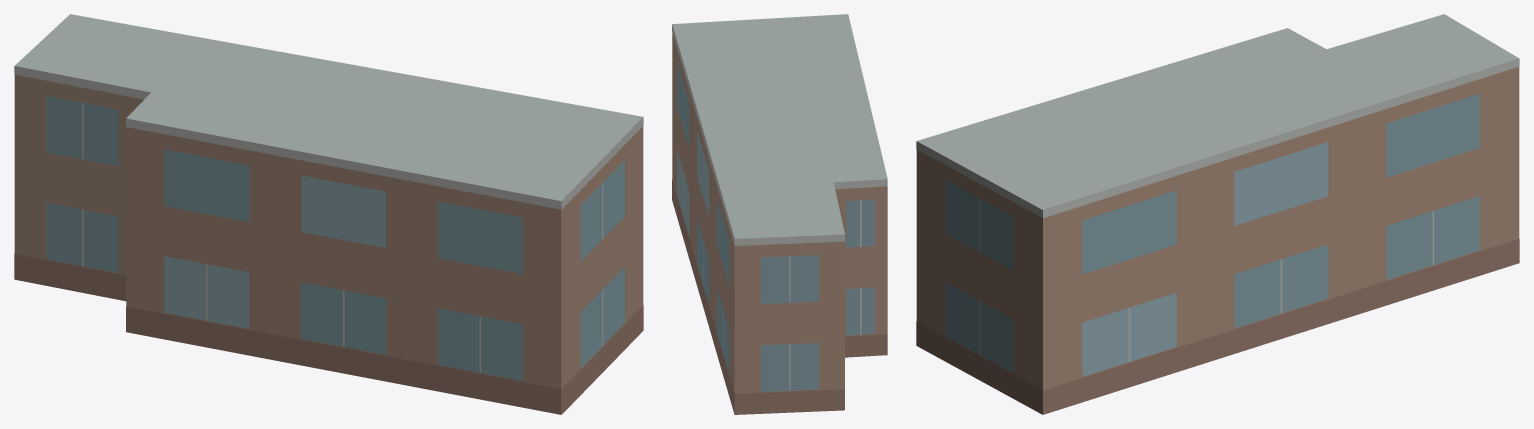
The model's file is survey-upis-32711923.glb.
The picture shows the model from 3 angles, left to right: view 1: azimuth 30°, elevation 25°; view 2: azimuth 150°, elevation 25°; view 3: azimuth 270°, elevation 25°; orthographic projection. The views are drawn at different scales.
Parts seen in each view (by area): view 1: survey-upis-32711923.tmp; view 2: survey-upis-32711923.tmp; view 3: survey-upis-32711923.tmp.
Boxes of the visible parts, x1=… form: survey-upis-32711923.tmp: x1=14, y1=14, x2=643, y2=414; survey-upis-32711923.tmp: x1=672, y1=14, x2=887, y2=414; survey-upis-32711923.tmp: x1=916, y1=14, x2=1519, y2=414.
Bounding box in the file's own units: 12.54 × 6.1 × 16.29.
